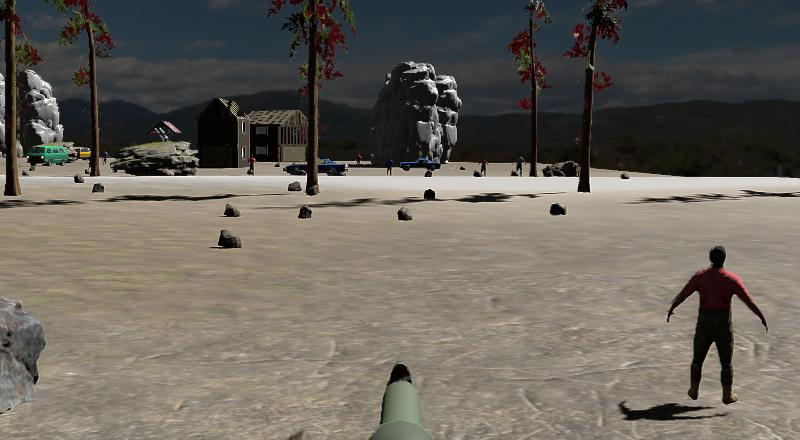Human: (663, 241, 770, 406)
car: (280, 155, 350, 179), (26, 144, 71, 169), (398, 156, 442, 172), (73, 145, 92, 161)
